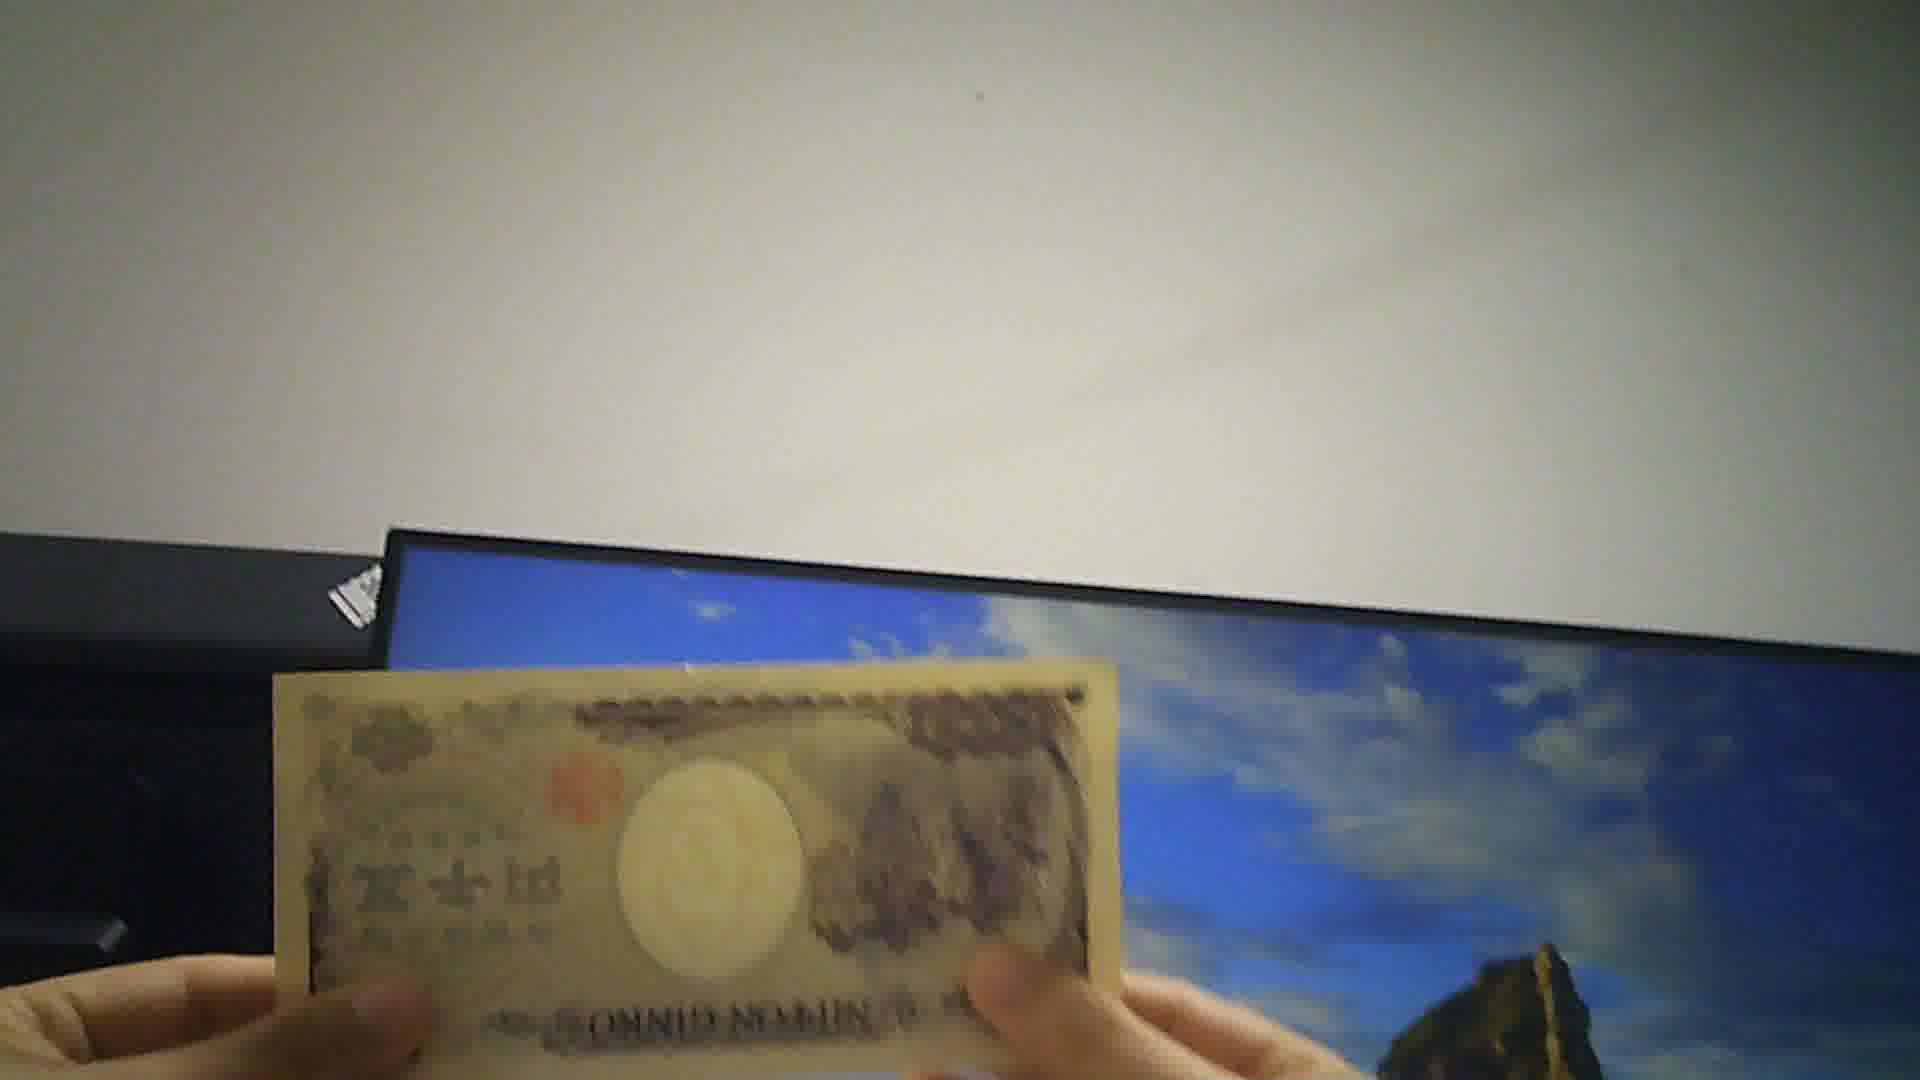5,000 Yen: (256, 644, 1159, 1054)
